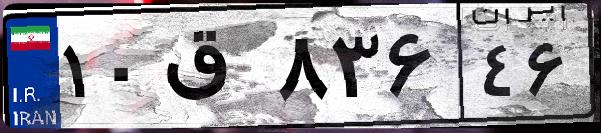0: (110, 28, 158, 98)
1: (57, 26, 110, 100)
3: (330, 28, 385, 110)
4: (475, 38, 525, 113)
6: (385, 28, 445, 110), (525, 38, 570, 115)
8: (270, 28, 330, 110)
ق: (158, 20, 270, 120)
